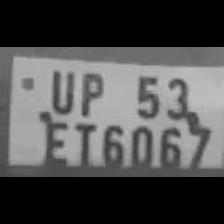0: (126, 119, 154, 169)
3: (162, 72, 192, 118)
5: (130, 71, 162, 117)
6: (97, 119, 127, 169), (156, 121, 184, 171)
7: (183, 116, 209, 172)
E: (39, 116, 67, 166)
P: (72, 67, 106, 117)
T: (67, 119, 97, 167)
U: (43, 64, 76, 114)
